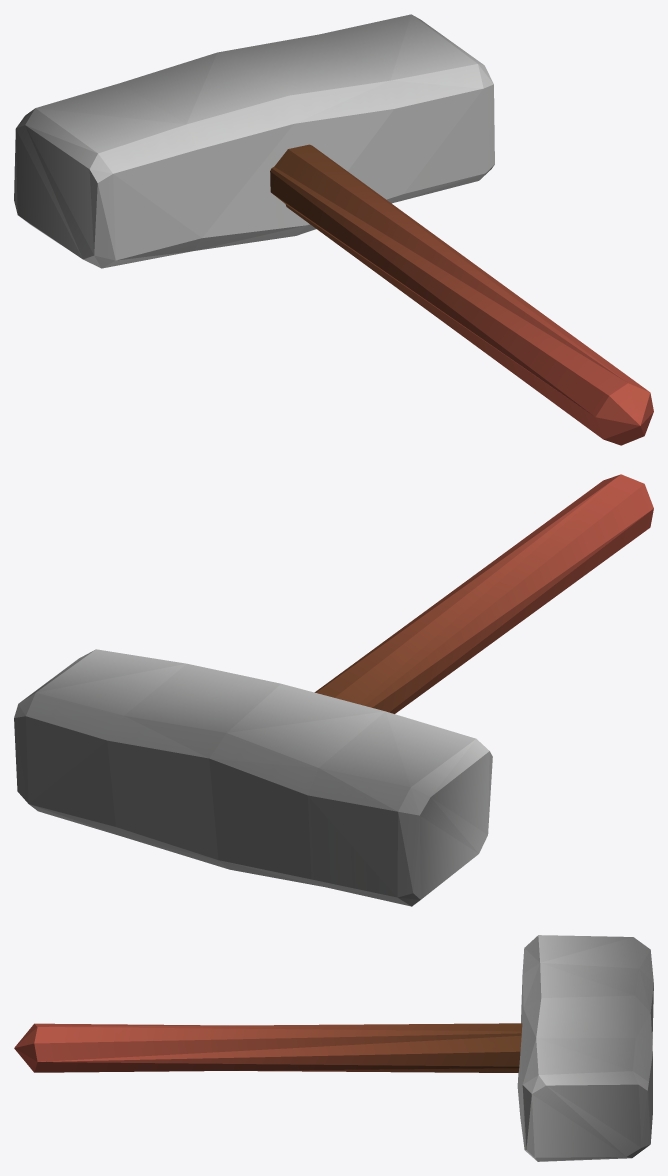
File: hammera.glb
3 views of the same model, one above another, from view 1: azimuth 30°, elevation 25°; view 2: azimuth 150°, elevation 25°; view 3: azimuth 270°, elevation 25° (orthographic). The views are drawn at different scales.
Parts seen in each view (by area): view 1: HammerA; view 2: HammerA; view 3: HammerA.
Part boxes in pixels (x1,y1,x2,y2): HammerA: (14,14,653,445); HammerA: (14,474,653,906); HammerA: (14,935,653,1161).
Bounding box in the file's own units: 0.264 × 0.0858 × 0.4862.
Materials: 1 (1 with a texture image).
